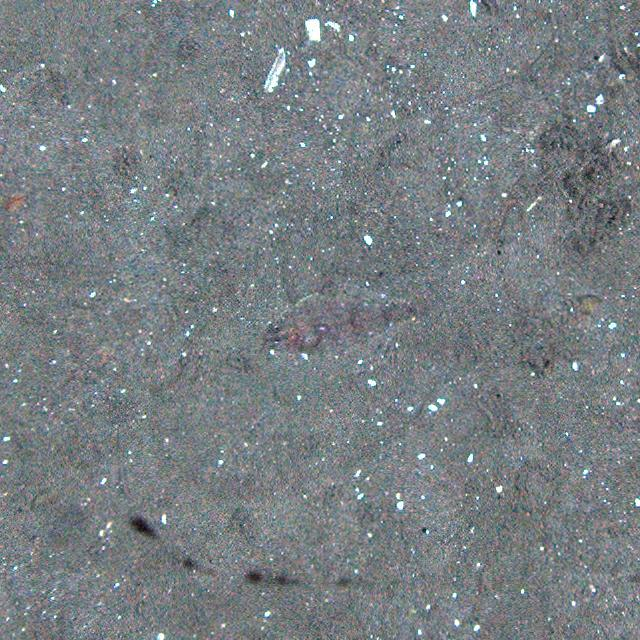flatfish: (253, 278, 423, 360)
